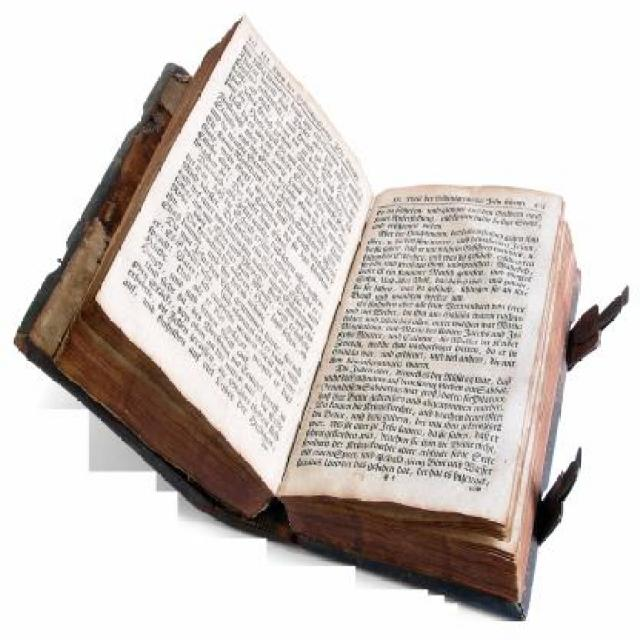book: (11, 6, 616, 622)
